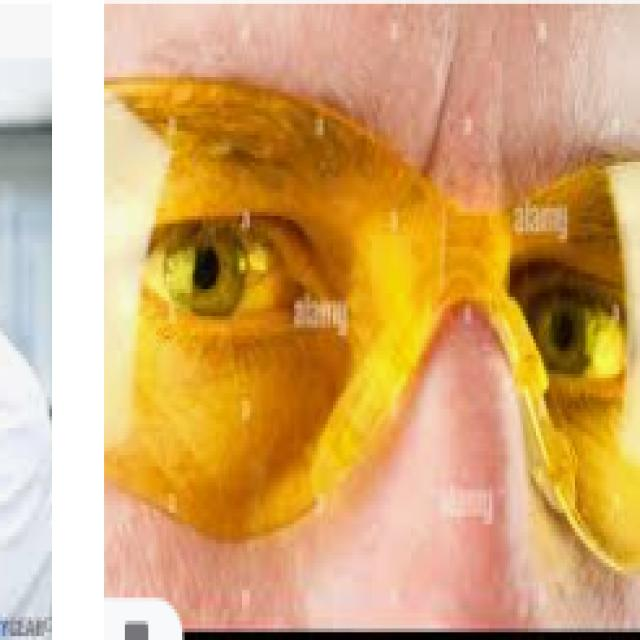glasses: (88, 50, 640, 557)
